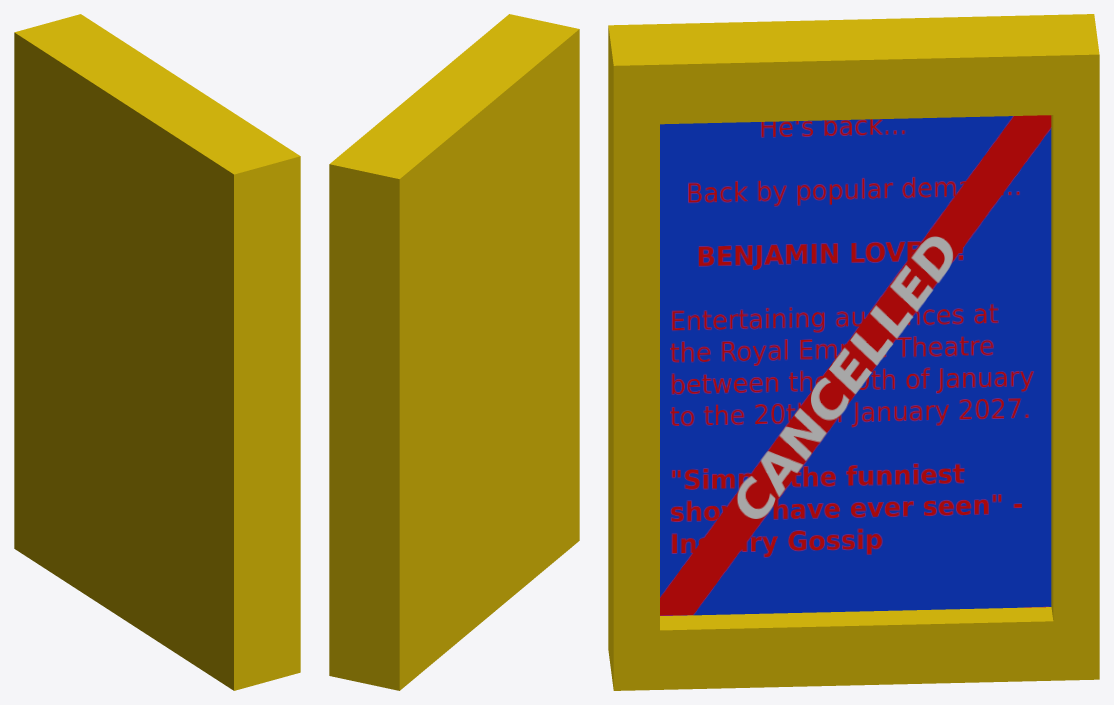
Rendered from right_poster.fbx.
3 views of the same model, side by side, from view 1: azimuth 30°, elevation 25°; view 2: azimuth 150°, elevation 25°; view 3: azimuth 270°, elevation 25° (orthographic). The views are drawn at different scales.
Parts seen in each view (by area): view 1: RightPoster_LOD0; view 2: RightPoster_LOD0; view 3: RightPoster_LOD0.
Part boxes in pixels (x1,y1,x2,y2): RightPoster_LOD0: (14,14,300,690); RightPoster_LOD0: (329,14,579,690); RightPoster_LOD0: (608,14,1099,690).
Size of what is drawn, in the model's own units: 50.46 by 284 by 202.
